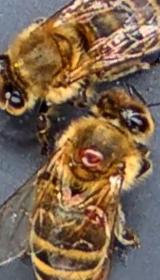varroa_mite: (74, 192, 110, 230), (72, 136, 109, 172)
